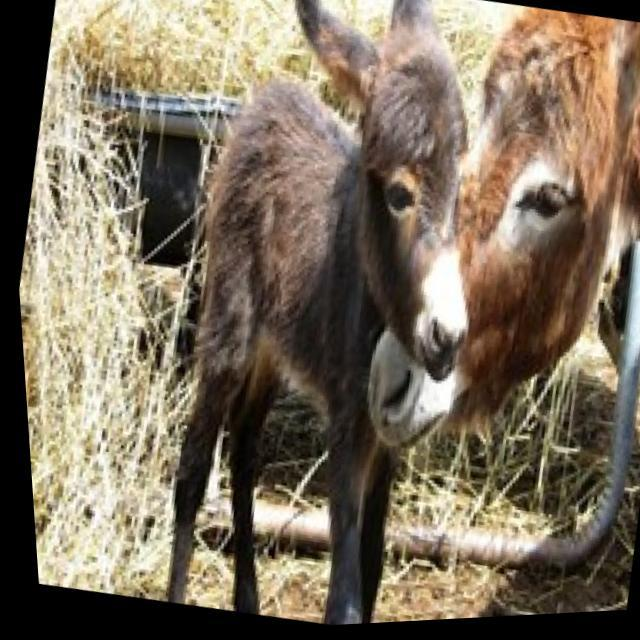Donkey: (111, 0, 544, 635), (398, 0, 640, 485), (495, 25, 640, 620)
